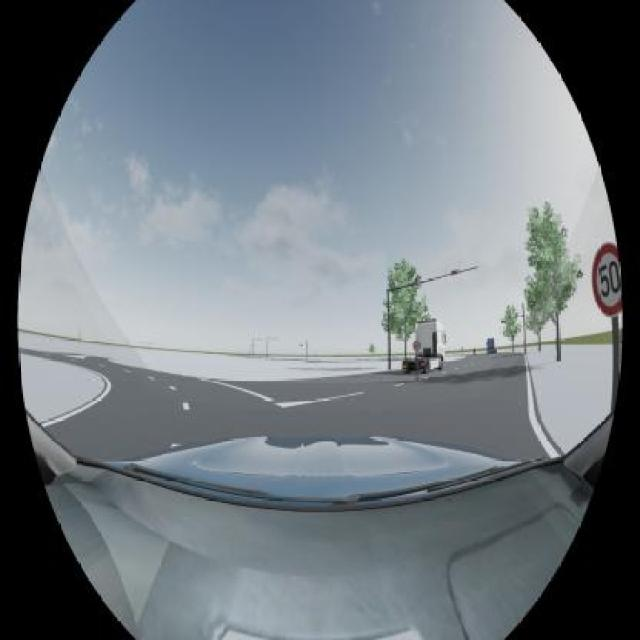forb_speed_over_50: (592, 242, 618, 316)
forb_speed_over_60: (412, 339, 420, 352)
